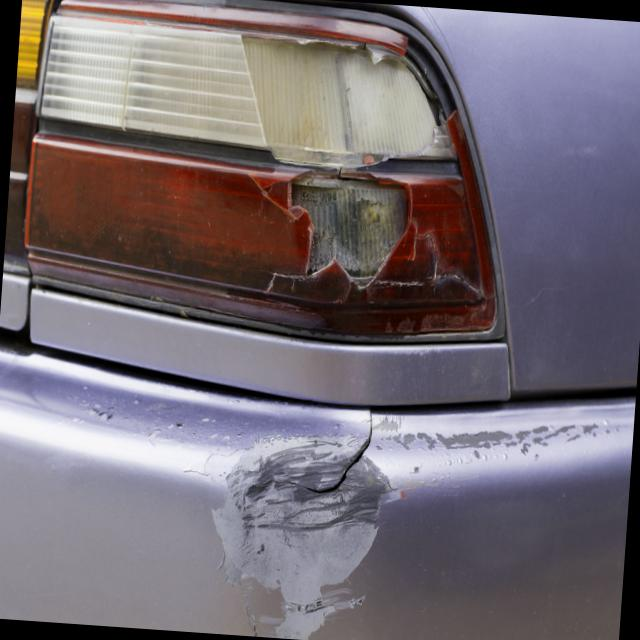Dechirure: (303, 399, 378, 516)
Phare abime: (220, 11, 498, 309)
Rayure: (199, 386, 634, 640)
